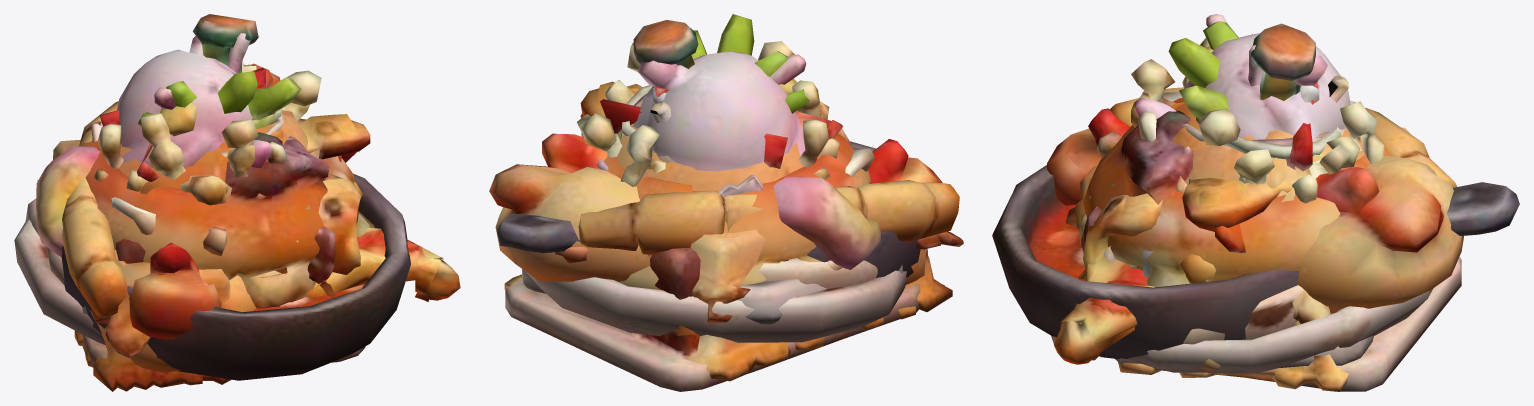
Rendered from dishes.glb.
The picture shows the model from 3 angles, left to right: view 1: azimuth 30°, elevation 25°; view 2: azimuth 150°, elevation 25°; view 3: azimuth 270°, elevation 25°; orthographic projection. The views are drawn at different scales.
Parts seen in each view (by area): view 1: donut, stirfry, pizza, icecream, hotdog, popcorn, cookie, pastries, burrito, rainbow_popsicle, lime_drink, burger (+6 smaller); view 2: burrito, hotdog, icecream, pizza, cake, pastries, donut, rainbow_popsicle, popcorn, stirfry, burger, pasta (+8 smaller); view 3: stirfry, hotdog, donut, burrito, pizza, icecream, popcorn, cookie, cake, lime_drink, pastries, burger (+5 smaller).
Boxes of the visible parts, x1,y1,x2,y2 form: donut: [81, 132, 369, 308]; stirfry: [61, 173, 410, 380]; pizza: [62, 101, 460, 316]; icecream: [117, 36, 272, 168]; hotdog: [97, 63, 280, 372]; popcorn: [93, 61, 321, 205]; cookie: [203, 114, 370, 274]; pastries: [37, 139, 231, 391]; burrito: [14, 197, 155, 344]; rainbow_popsicle: [36, 146, 100, 256]; lime_drink: [137, 71, 301, 128]; burger: [98, 110, 319, 194]; burrito: [525, 148, 906, 342]; hotdog: [489, 133, 942, 284]; icecream: [633, 51, 805, 171]; pizza: [578, 180, 959, 254]; cake: [505, 182, 920, 391]; pastries: [504, 229, 963, 381]; donut: [597, 134, 870, 289]; rainbow_popsicle: [773, 176, 880, 269]; popcorn: [577, 41, 840, 186]; stirfry: [497, 141, 920, 277]; burger: [617, 104, 840, 191]; pasta: [555, 247, 877, 288]; stirfry: [992, 165, 1519, 359]; hotdog: [1047, 108, 1463, 313]; donut: [1079, 97, 1391, 325]; burrito: [1103, 92, 1433, 373]; pizza: [1054, 87, 1457, 364]; icecream: [1136, 33, 1350, 141]; popcorn: [1131, 38, 1384, 203]; cookie: [1083, 131, 1294, 271]; cake: [1051, 206, 1461, 391]; lime_drink: [1168, 21, 1340, 159]; pastries: [1065, 127, 1410, 391]; burger: [1170, 99, 1365, 202].
Bounding box in the file's own units: 0.2466 × 0.1879 × 0.3014.
Materials: 1 (1 with a texture image).
